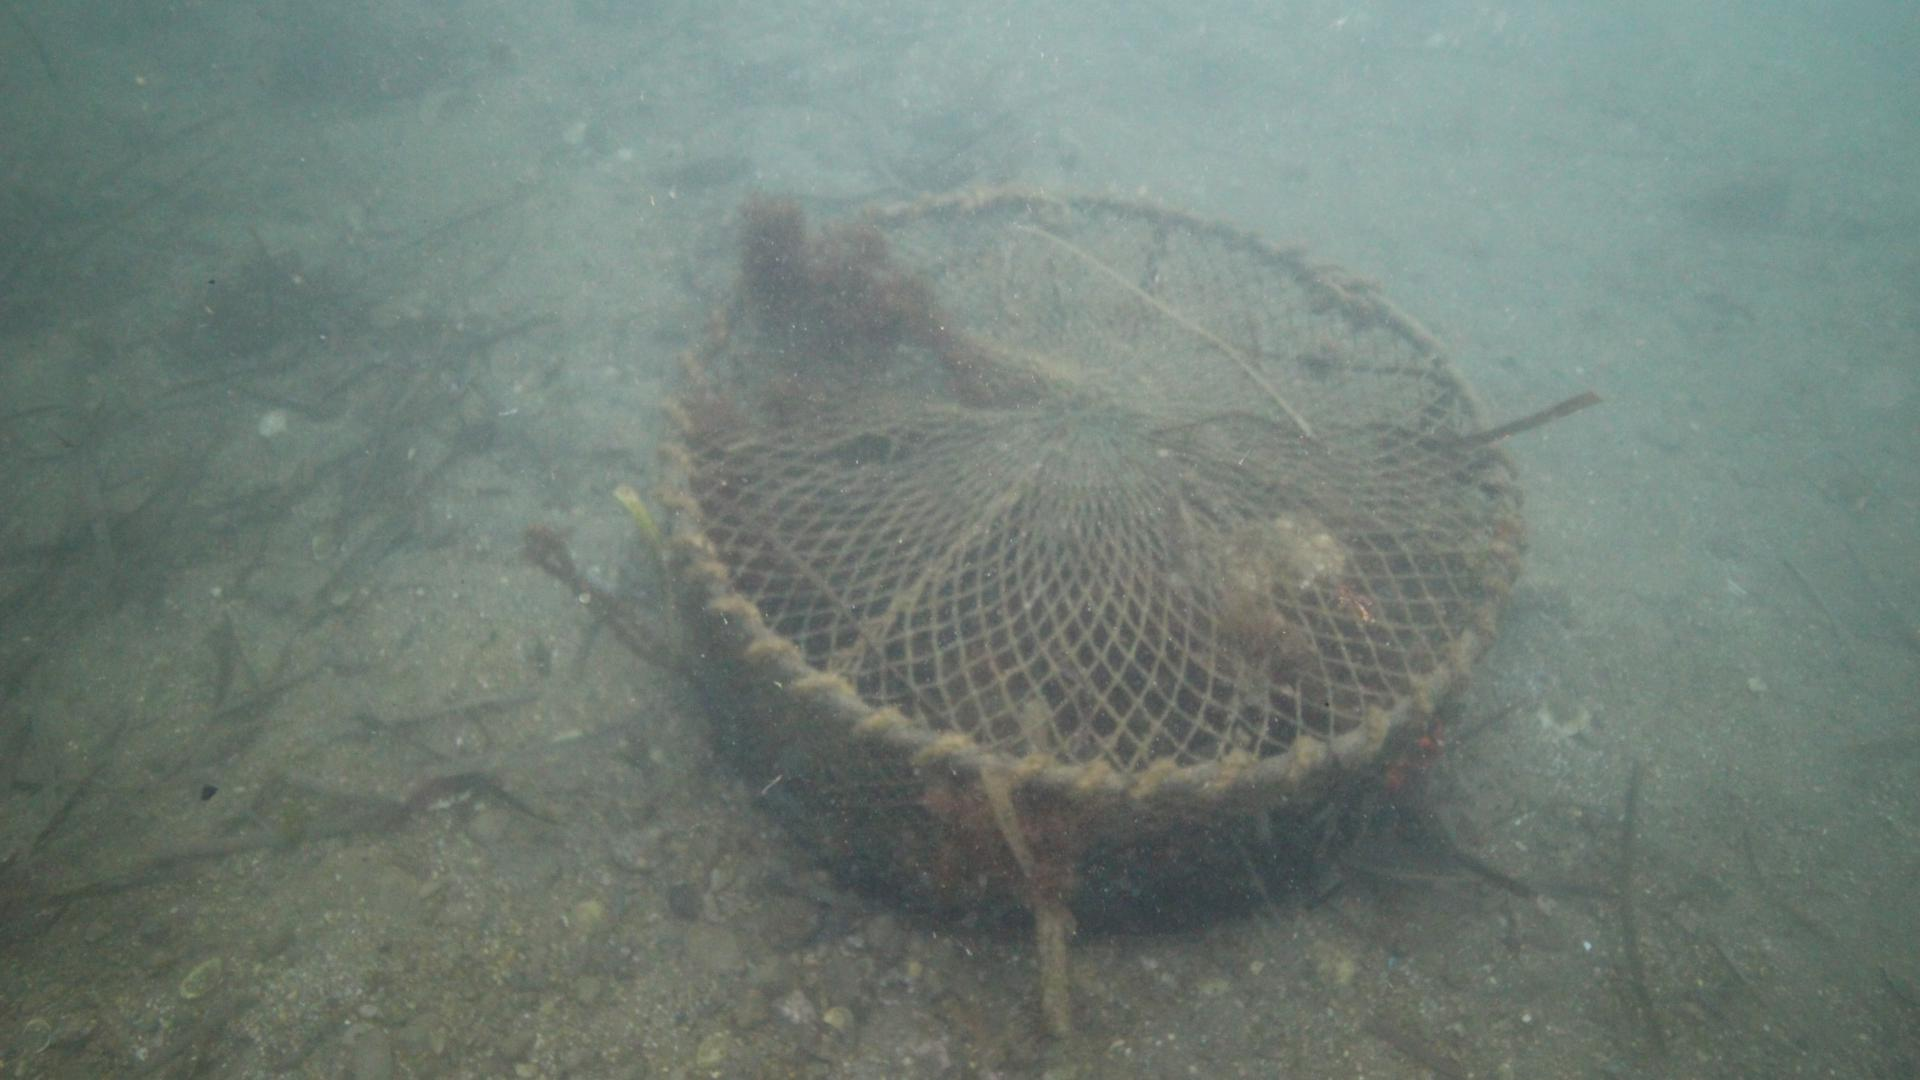circular fish trap: (653, 183, 1524, 936)
